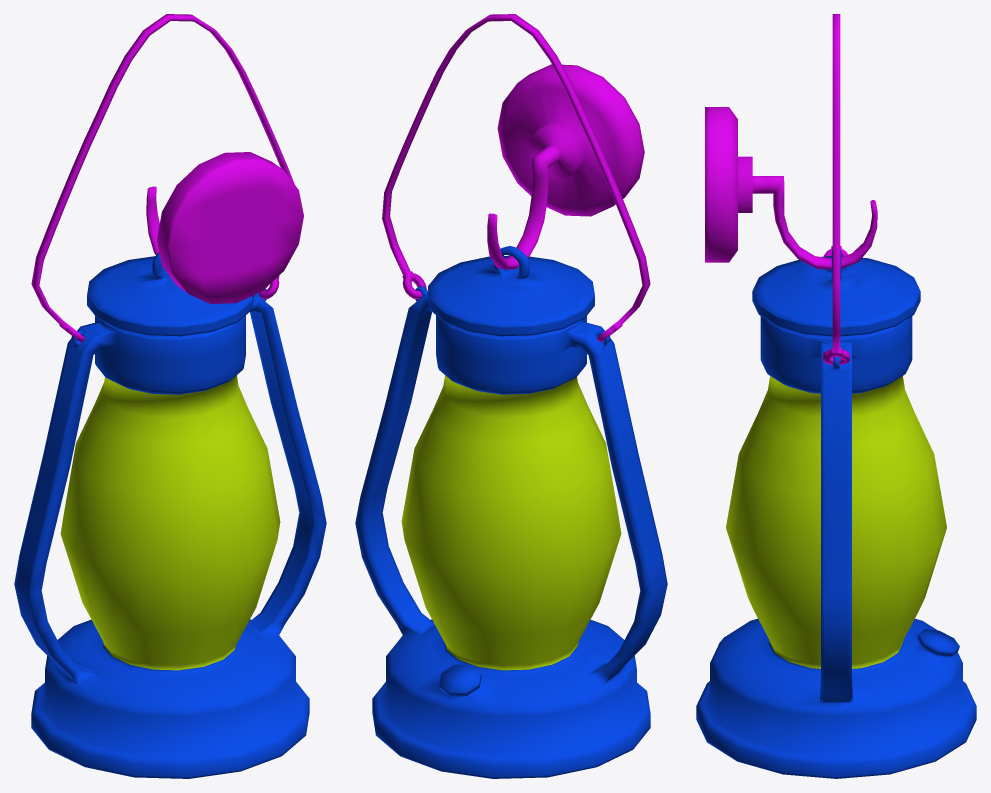
Rendered from GasLamp_LowPoly.fbx.
3 views of the same model, side by side, from view 1: azimuth 30°, elevation 25°; view 2: azimuth 150°, elevation 25°; view 3: azimuth 270°, elevation 25° (orthographic).
Parts seen in each view (by area): view 1: Gas Lamp, Gas Lamp Hook, Gas Lamp Handle; view 2: Gas Lamp, Gas Lamp Hook, Gas Lamp Handle; view 3: Gas Lamp, Gas Lamp Hook, Gas Lamp Handle.
Part boxes in pixels (x1,y1,x2,y2): Gas Lamp: (14, 252, 326, 778); Gas Lamp Hook: (146, 152, 303, 303); Gas Lamp Handle: (31, 14, 294, 342); Gas Lamp: (355, 246, 667, 778); Gas Lamp Hook: (487, 64, 644, 269); Gas Lamp Handle: (382, 14, 650, 342); Gas Lamp: (696, 249, 976, 778); Gas Lamp Hook: (705, 107, 877, 269); Gas Lamp Handle: (823, 14, 849, 364).
Bounding box in the file's own units: 0.6577 × 1.49 × 0.5381.
